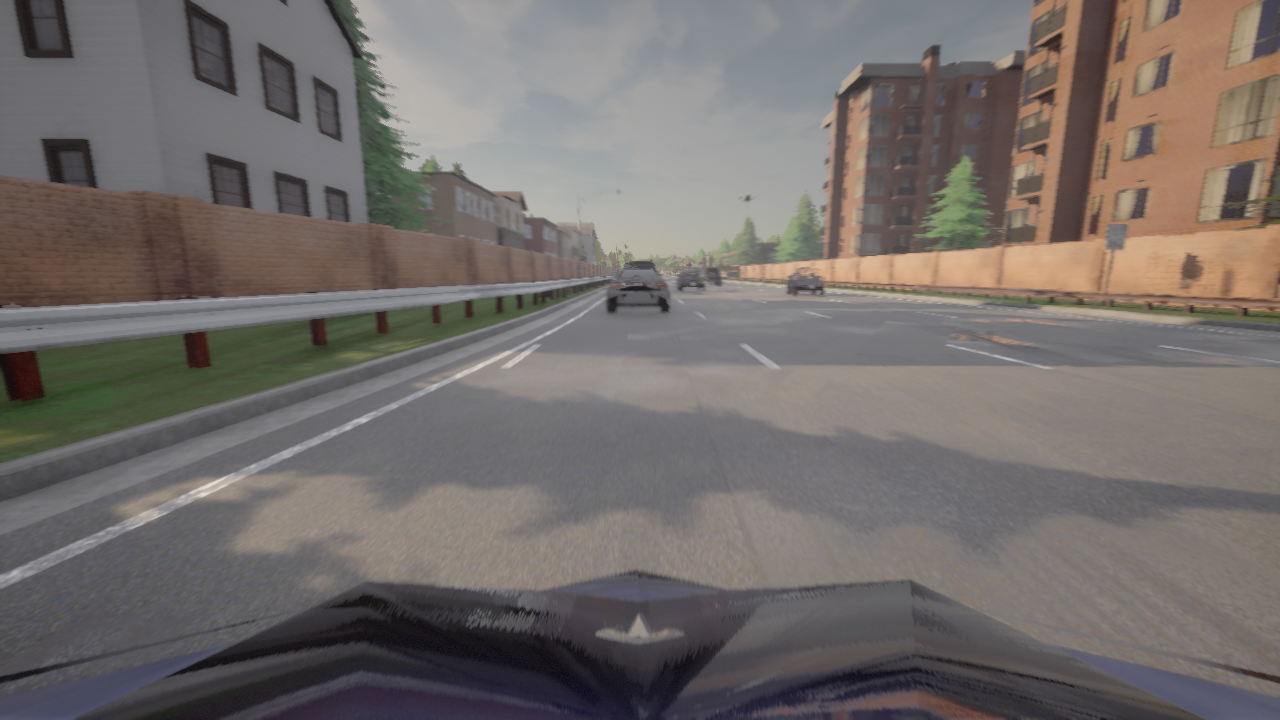cyclist: (0, 569, 1279, 719), (606, 263, 670, 312), (787, 268, 824, 295), (676, 269, 705, 291), (702, 266, 721, 285), (701, 270, 711, 283), (629, 261, 651, 263)
